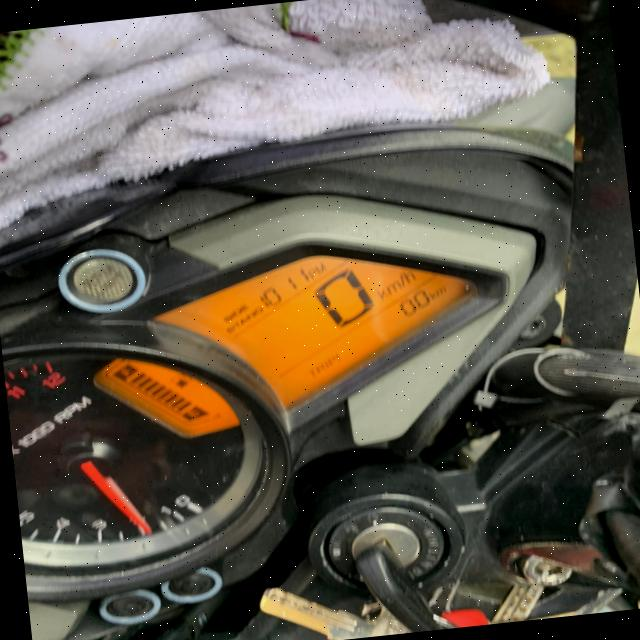odometer: (79, 236, 492, 449)
